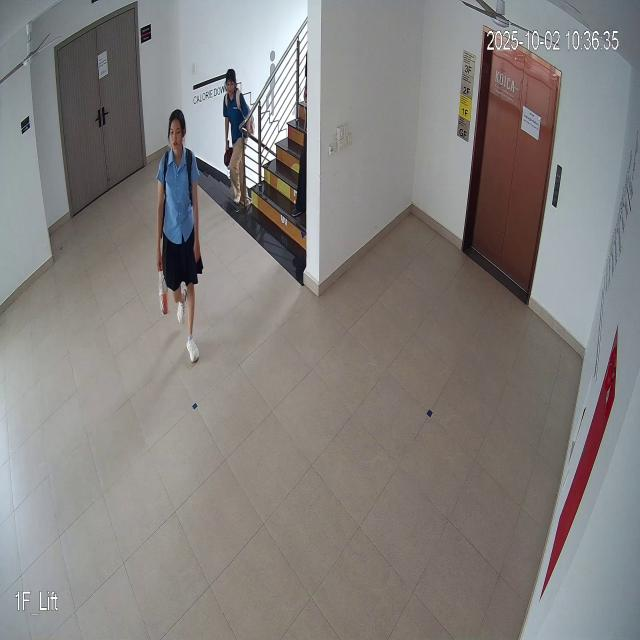face: (166, 103, 187, 166)
